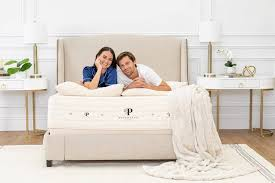bed-matress: (44, 77, 204, 130)
